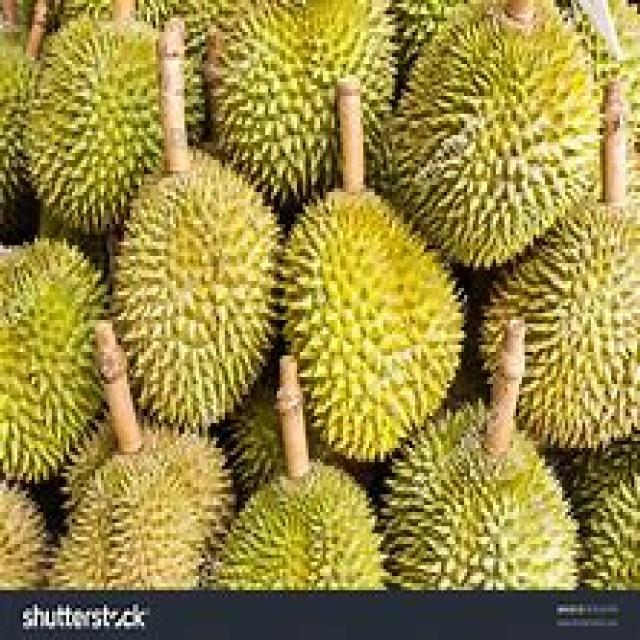mature: (392, 3, 599, 267), (280, 191, 464, 460), (115, 153, 280, 429)
